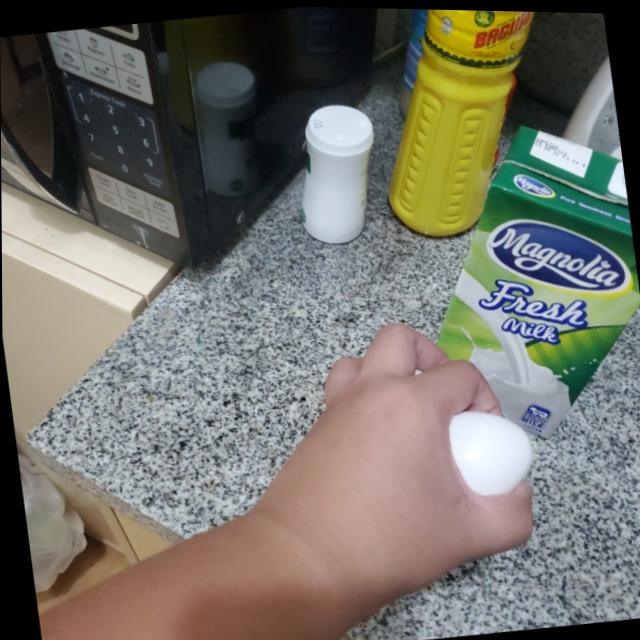egg: (445, 401, 537, 496)
milk: (411, 110, 640, 445)
